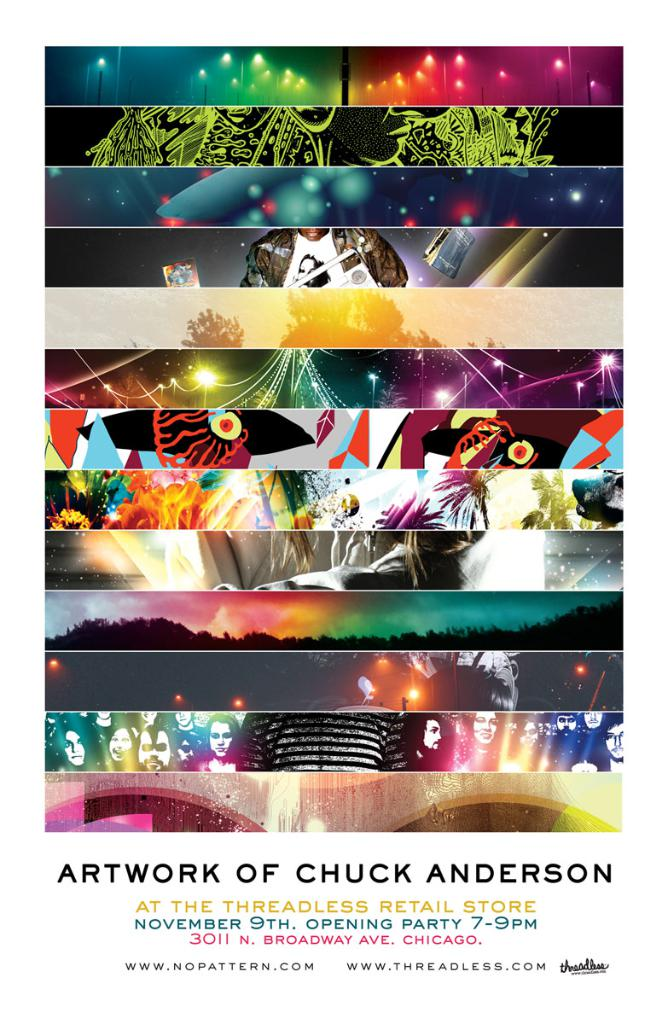Person: (44, 712, 625, 775)
